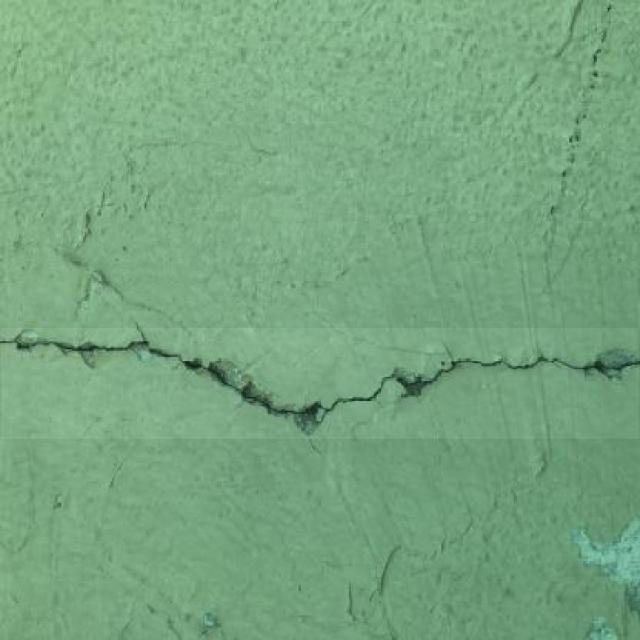horizontal crack: (2, 329, 639, 439)
